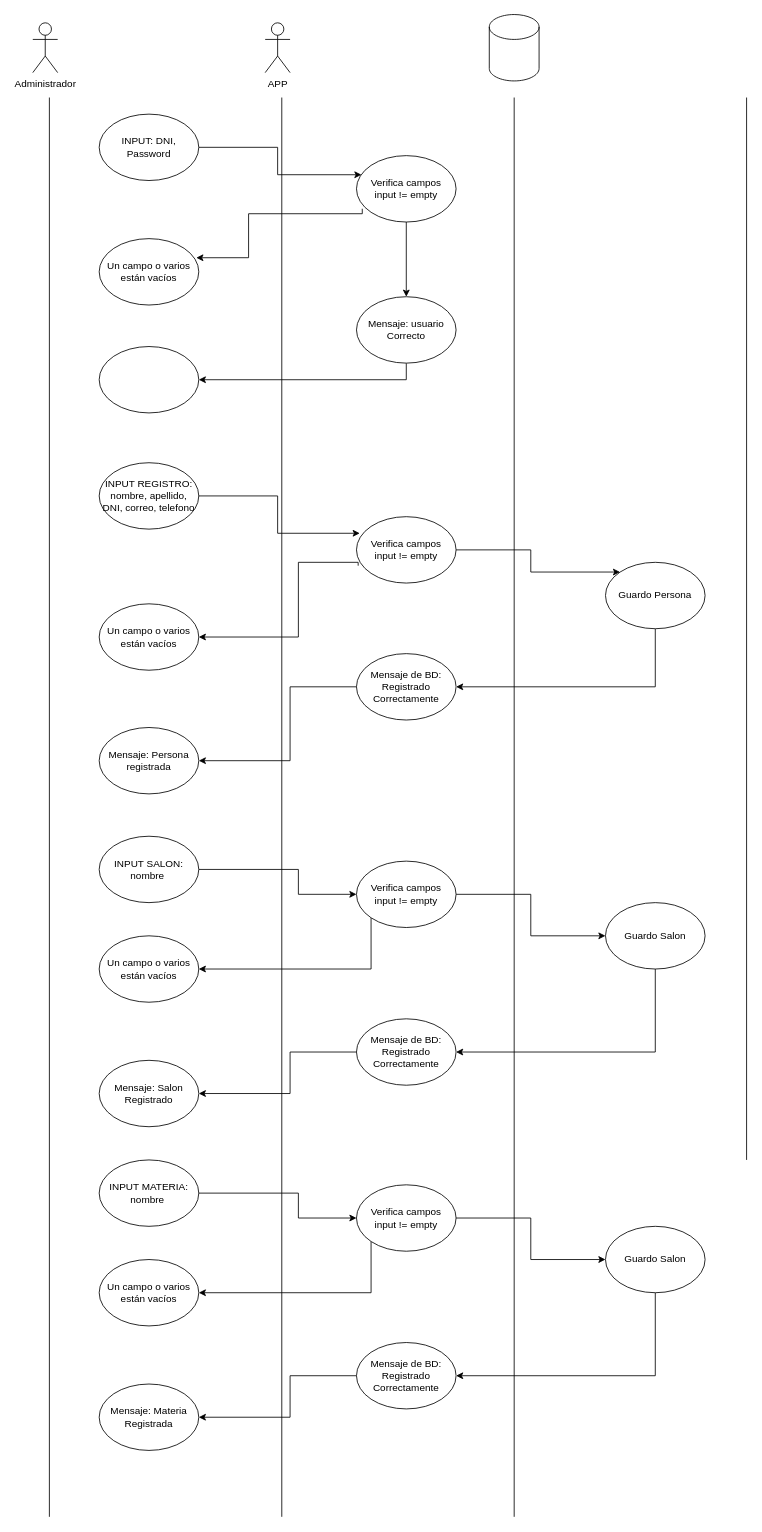
This 762x1532 diagram has some shape labels left out. The box of each missing label's shape, as (x1, y1, x2, y2) in pixels:
bd: (488, 14, 539, 81)
Mensaje: Logeado Correctamente: (98, 346, 199, 413)
